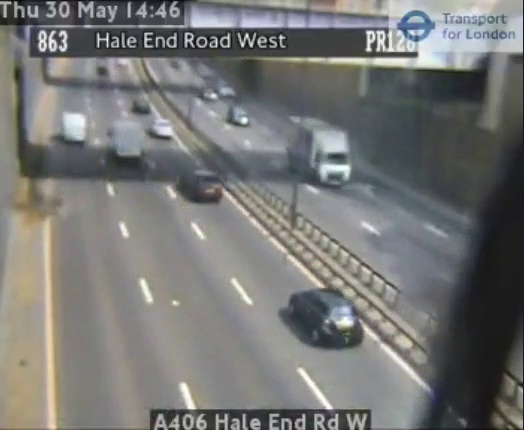car: (291, 289, 363, 344), (180, 170, 223, 201)
van: (110, 121, 144, 158), (61, 112, 86, 142)
